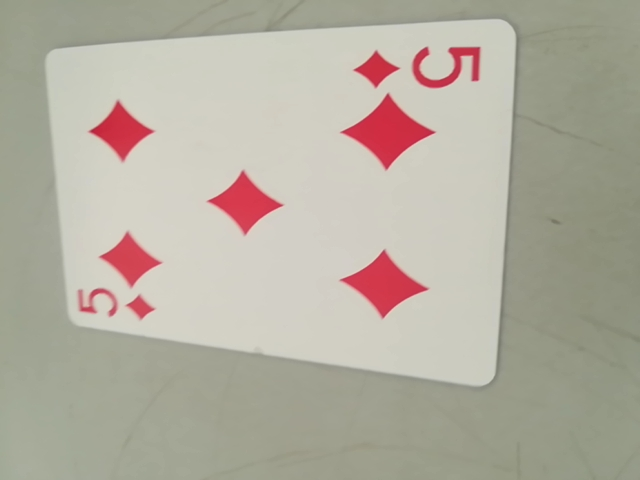fk 5: (353, 36, 484, 95), (70, 281, 155, 330)
